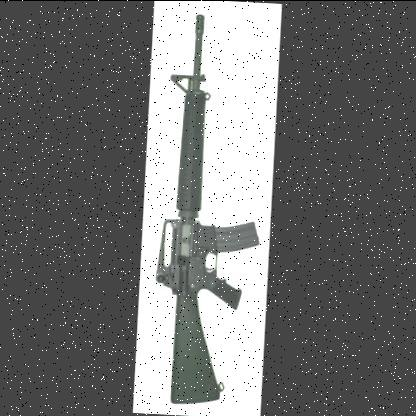rifle: (145, 12, 273, 410)
